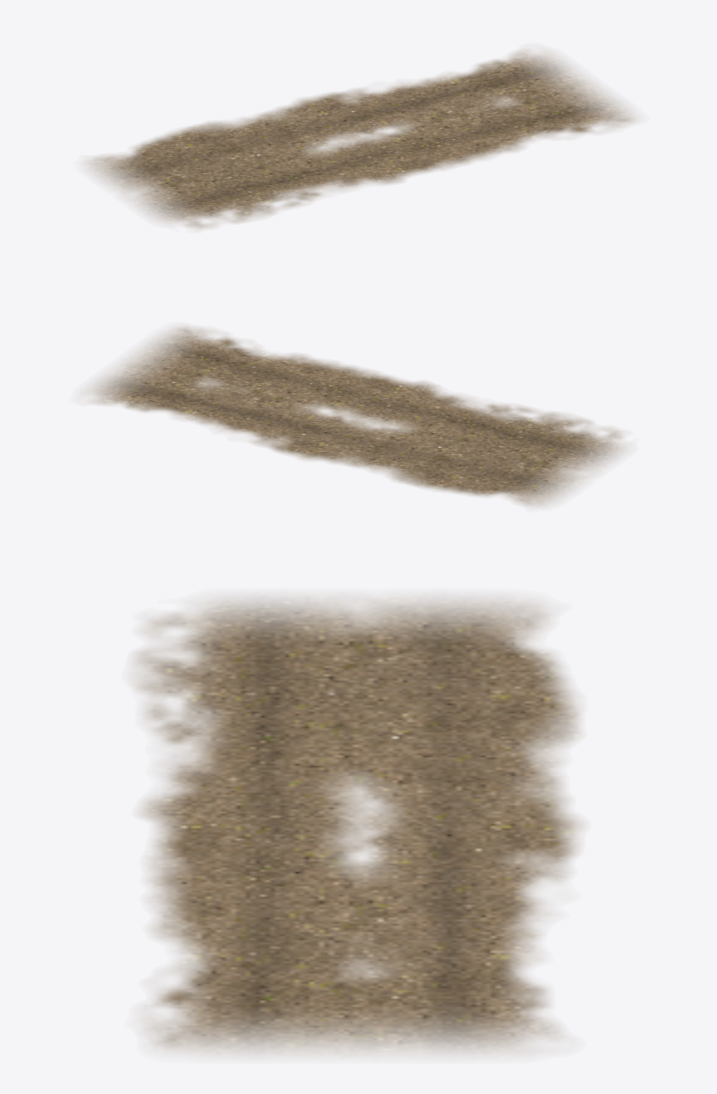
The model's file is road_line_drive_drive.glb.
3 renders of one model, top to bottom at view 1: azimuth 30°, elevation 25°; view 2: azimuth 150°, elevation 25°; view 3: azimuth 270°, elevation 25°, orthographic. The views are drawn at different scales.
Parts seen in each view (by area): view 1: road_line_drive_drive; view 2: road_line_drive_drive; view 3: road_line_drive_drive.
Boxes of the visible parts, left/top/right/bottom form: road_line_drive_drive: left=85, top=49, right=636, bottom=228; road_line_drive_drive: left=84, top=326, right=626, bottom=506; road_line_drive_drive: left=134, top=597, right=582, bottom=1054.
Bounding box in the file's own units: 9.75 × 0 × 5.5.
Materials: 1 (1 with a texture image).
